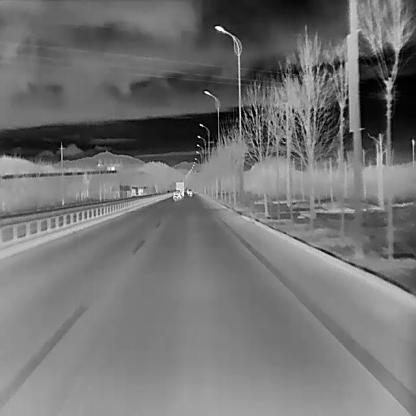car: (174, 181, 184, 199), (172, 189, 182, 201), (187, 188, 192, 197)
